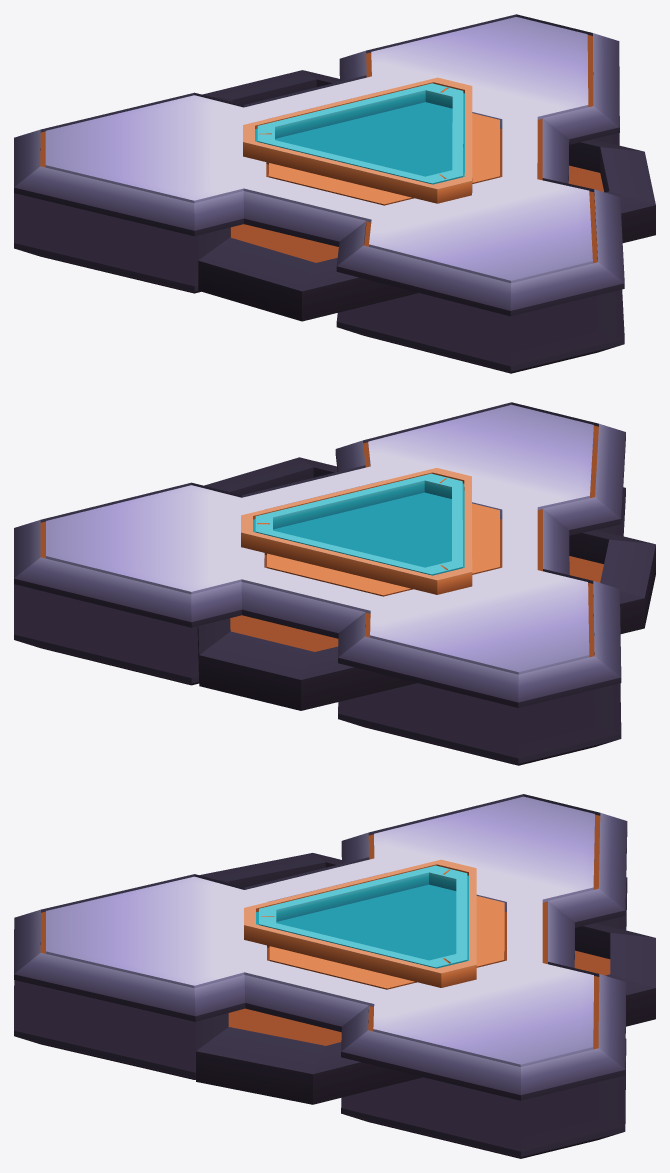
Rendered from HologramProjector.fbx.
3 views of the same model, one above another, from view 1: azimuth 30°, elevation 25°; view 2: azimuth 150°, elevation 25°; view 3: azimuth 270°, elevation 25° (orthographic).
Parts seen in each view (by area): view 1: HP_Low; view 2: HP_Low; view 3: HP_Low.
Boxes of the visible parts, box(x1,y1,x2,y2) form: HP_Low: box(14, 14, 655, 373); HP_Low: box(14, 402, 655, 765); HP_Low: box(14, 794, 655, 1158).
Size of the model in its own units: 343 by 64.76 by 311.
Materials: 1 (1 with a texture image).
